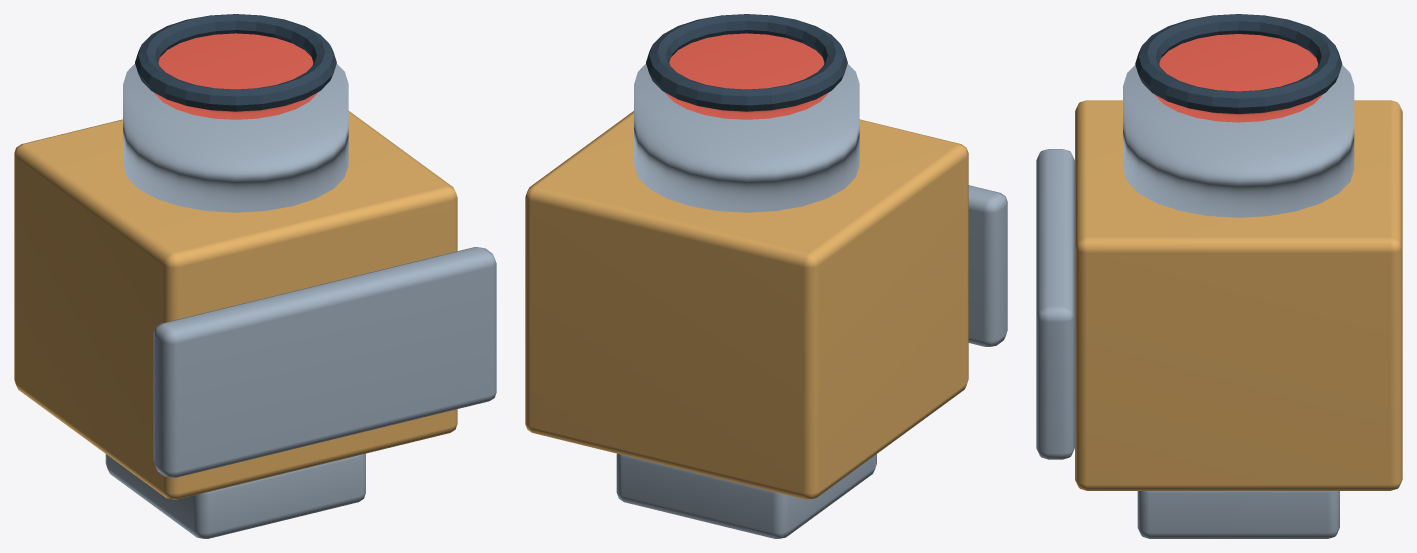
Rendered from infrared_instrument.glb.
3 views of the same model, side by side, from view 1: azimuth 30°, elevation 25°; view 2: azimuth 150°, elevation 25°; view 3: azimuth 270°, elevation 25° (orthographic). The views are drawn at different scales.
Parts seen in each view (by area): view 1: Infrared_Housing, Thermal_Radiator, Infrared_Barrel, Mounting_Flange, Infrared_Rim, Infrared_Window; view 2: Infrared_Housing, Infrared_Barrel, Mounting_Flange, Infrared_Rim, Infrared_Window, Thermal_Radiator; view 3: Infrared_Housing, Infrared_Barrel, Thermal_Radiator, Infrared_Rim, Mounting_Flange, Infrared_Window.
Part boxes in pixels (x1,y1,x2,y2): Infrared_Housing: (14,111,457,499); Thermal_Radiator: (153,247,496,477); Infrared_Barrel: (123,64,348,212); Mounting_Flange: (105,453,365,538); Infrared_Rim: (135,14,336,111); Infrared_Window: (154,33,317,119); Infrared_Housing: (525,111,968,499); Infrared_Barrel: (634,64,859,212); Mounting_Flange: (616,453,876,538); Infrared_Rim: (646,14,847,111); Infrared_Window: (665,33,828,119); Thermal_Radiator: (968,185,1007,346); Infrared_Housing: (1075,100,1402,490); Infrared_Barrel: (1123,65,1354,217); Thermal_Radiator: (1036,149,1074,459); Infrared_Rim: (1135,14,1342,113); Mounting_Flange: (1137,491,1339,538); Infrared_Window: (1154,34,1322,122).
Bounding box in the file's own units: 0.82 × 1.02 × 0.76.
